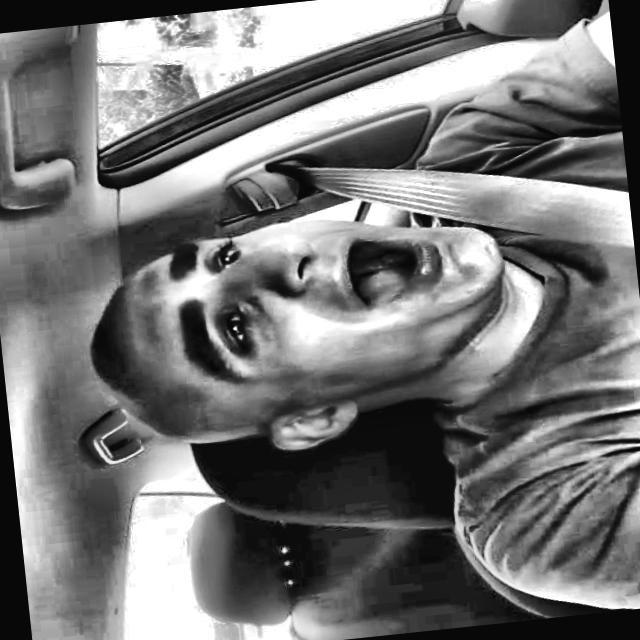open_eyes: (206, 295, 276, 363), (196, 230, 257, 283)
open_mouth: (316, 217, 454, 317)
